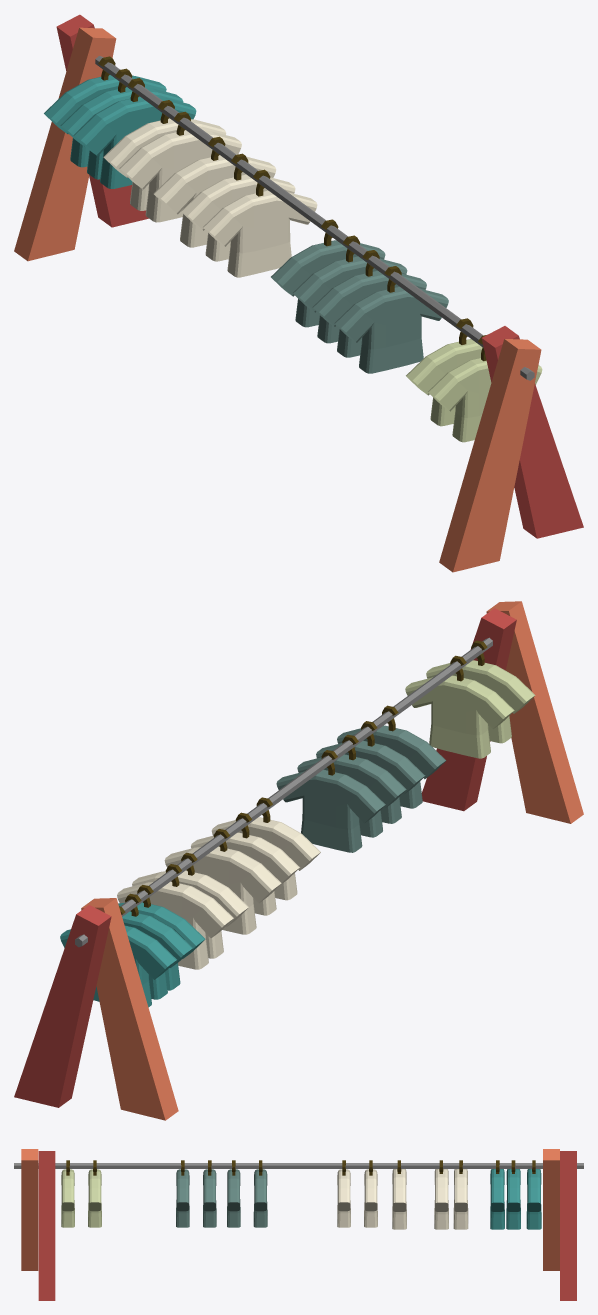
File: long-shirt.glb
The picture shows the model from 3 angles, top to bottom: view 1: azimuth 30°, elevation 25°; view 2: azimuth 150°, elevation 25°; view 3: azimuth 270°, elevation 25°; orthographic projection. The views are drawn at different scales.
Parts seen in each view (by area): view 1: Cylinder; view 2: Cylinder; view 3: Cylinder.
Boxes of the visible parts, bbox=[...] form: Cylinder: bbox=[14, 14, 583, 572]; Cylinder: bbox=[14, 601, 583, 1120]; Cylinder: bbox=[14, 1149, 583, 1300].
Size of the model in its own units: 5.75 by 7.89 by 31.9.
